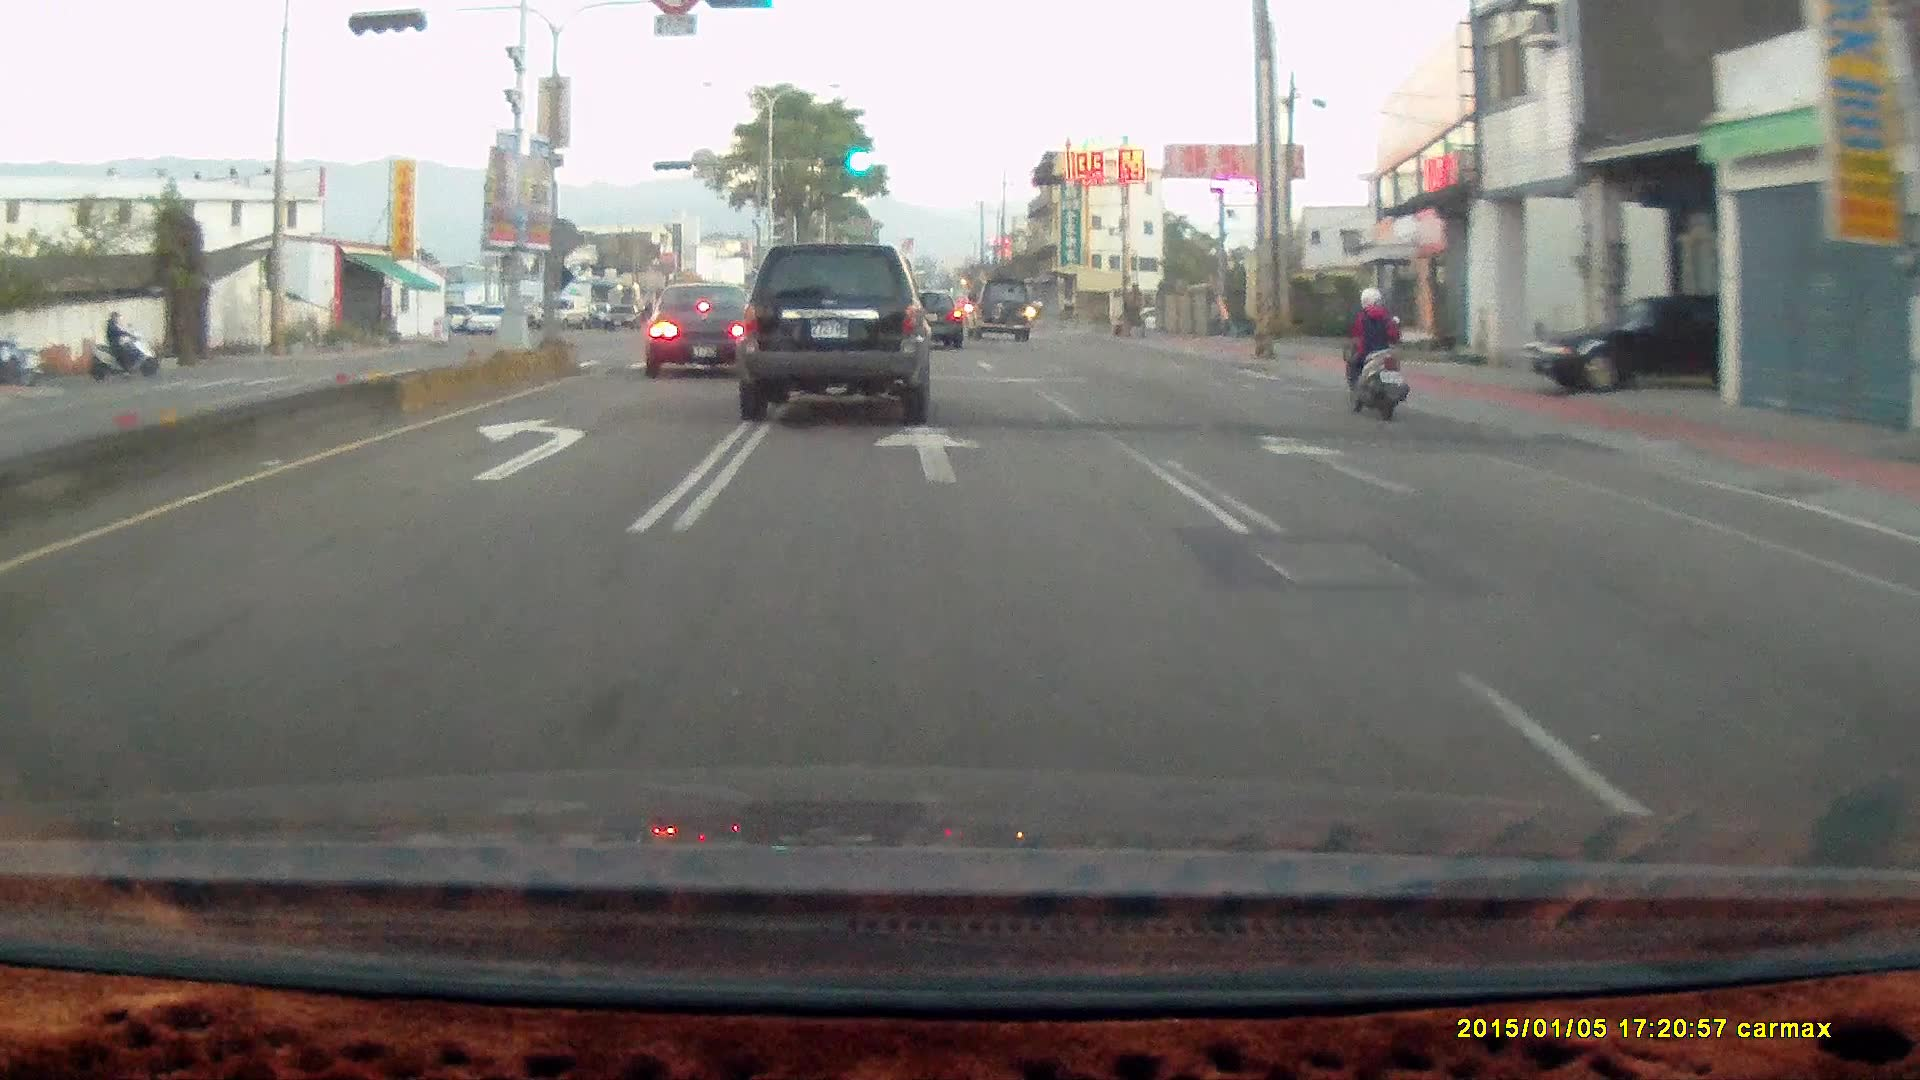rider: (1327, 277, 1420, 430), (1332, 286, 1406, 420), (61, 298, 163, 380)
vehicle: (735, 237, 938, 425), (736, 242, 938, 420), (1520, 292, 1805, 395), (1532, 293, 1732, 397), (643, 278, 761, 376), (646, 279, 753, 383), (889, 288, 963, 349), (965, 277, 1033, 344), (895, 289, 965, 351), (965, 276, 1032, 338), (462, 302, 526, 336), (529, 298, 584, 329), (601, 303, 641, 329)
